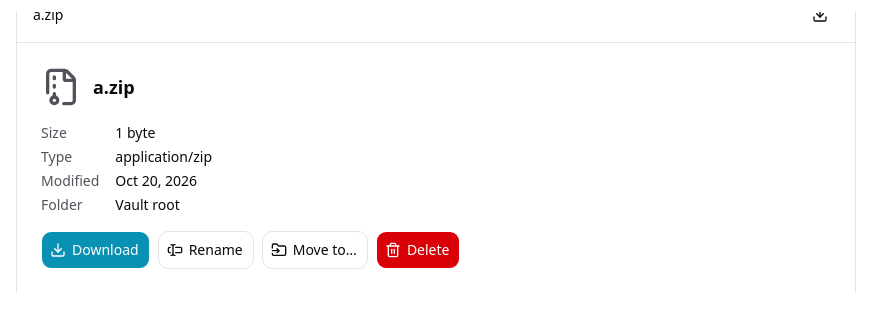
Scenario: clicking a file name (1: header, title) opens rename
Click the 2nd button titled "Click to rename": click(114, 87) [89, 73, 139, 101]
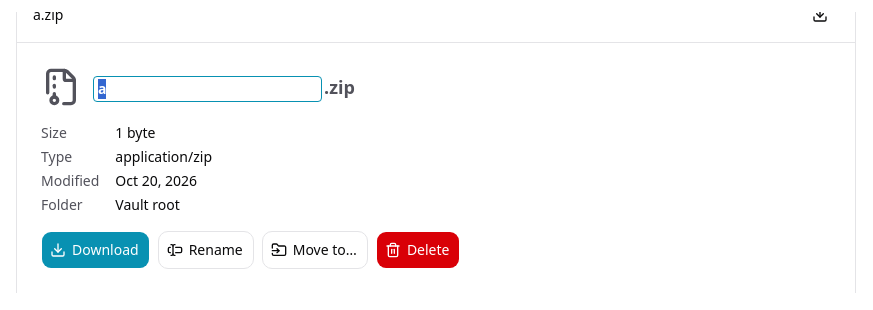
Result: the field holds "a" at [93, 76, 322, 102]
